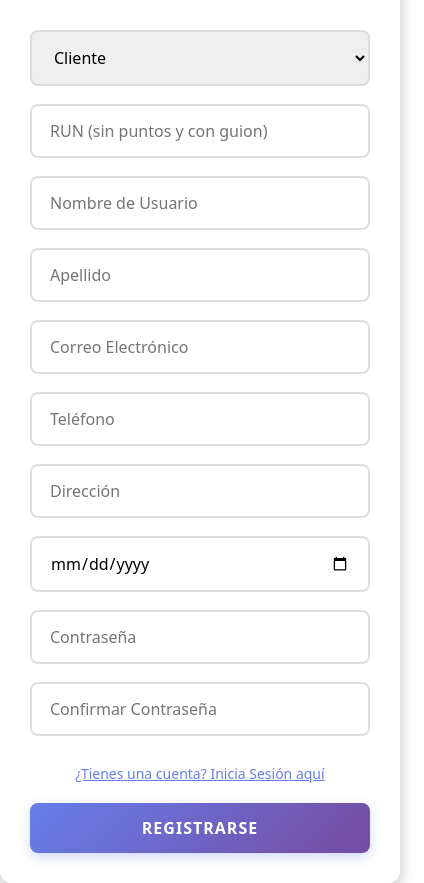
Test: Validación del formulario de Registro › muestra errores cuando se intenta enviar con campos vacíos
(page scrolled)
Click the button "Registrarse" at (200,828), box [30,803,370,853]
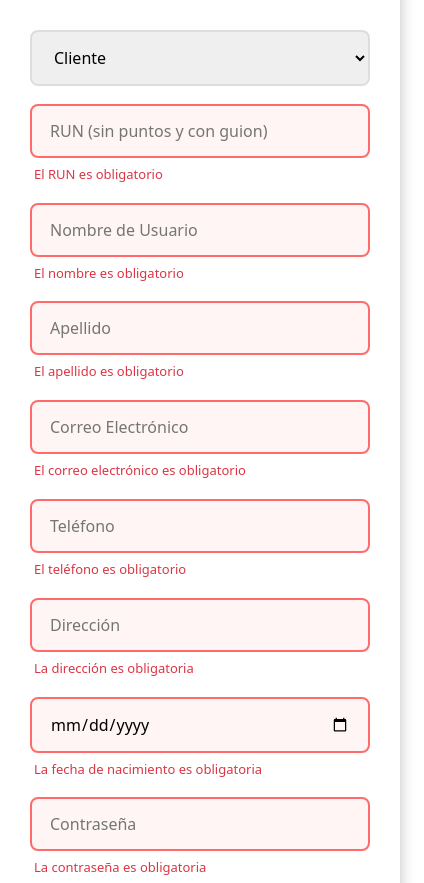
Expected: the text "El nombre es obligatorio" is shown, [34,264,184,282]
Expected: the text "La contraseña es obligatoria" is shown, [34,858,206,876]
Expected: the text "El correo electrónico es obligatorio" is shown, [34,461,246,479]
